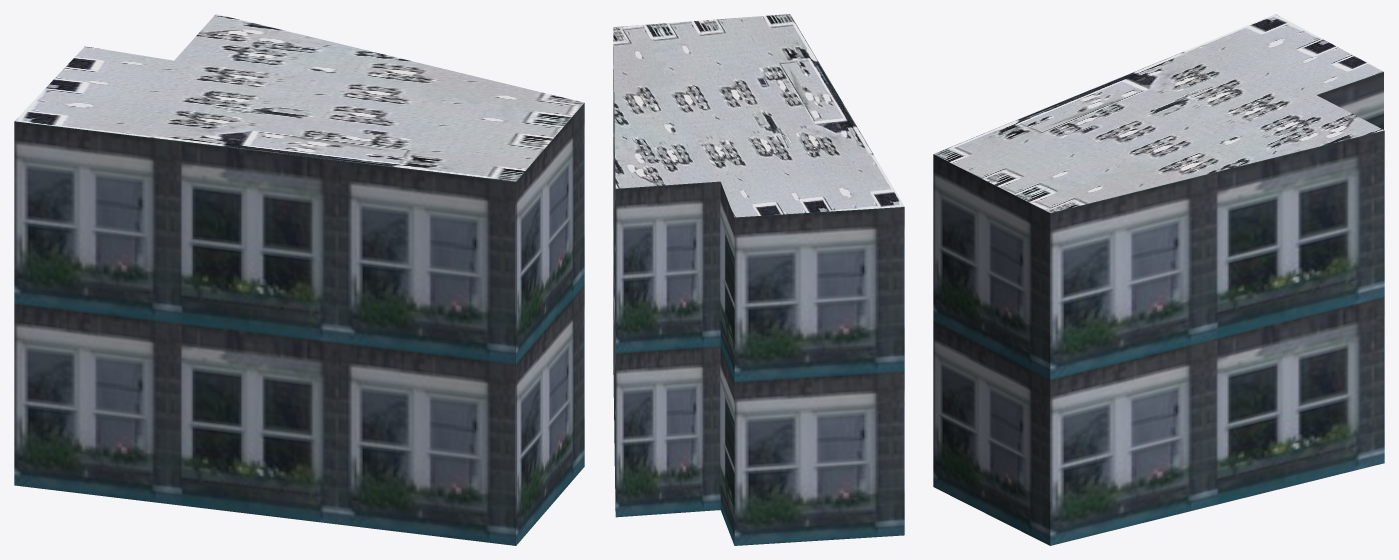
File: ResTex__1530.fbx
The picture shows the model from 3 angles, left to right: view 1: azimuth 30°, elevation 25°; view 2: azimuth 150°, elevation 25°; view 3: azimuth 270°, elevation 25°; orthographic projection. The views are drawn at different scales.
Visible parts, largest first — view 1: CityEngineMaterial_11_m, CityEngineMaterial_8_m; view 2: CityEngineMaterial_11_m, CityEngineMaterial_8_m; view 3: CityEngineMaterial_11_m, CityEngineMaterial_8_m.
Boxes of the visible parts, left/top/right/bottom form: CityEngineMaterial_11_m: left=14, top=103, right=584, bottom=545; CityEngineMaterial_8_m: left=15, top=14, right=583, bottom=181; CityEngineMaterial_11_m: left=613, top=46, right=904, bottom=545; CityEngineMaterial_8_m: left=613, top=14, right=904, bottom=217; CityEngineMaterial_11_m: left=933, top=72, right=1384, bottom=545; CityEngineMaterial_8_m: left=933, top=14, right=1384, bottom=212.
Size of the model in its own units: 7.7 by 6 by 7.38.
2 materials, 2 textured.
